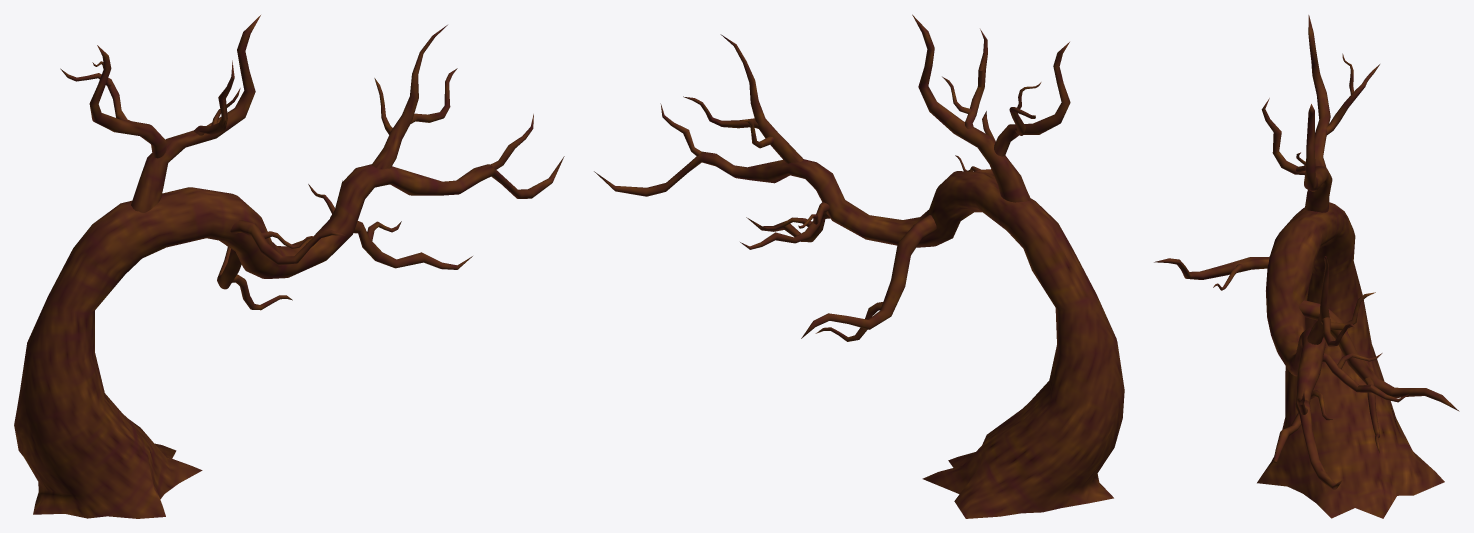
File: skeletal_tree_free.glb
The picture shows the model from 3 angles, left to right: view 1: azimuth 30°, elevation 25°; view 2: azimuth 150°, elevation 25°; view 3: azimuth 270°, elevation 25°; orthographic projection. The views are drawn at different scales.
Parts seen in each view (by area): view 1: Skeletal_Tree_FREE; view 2: Skeletal_Tree_FREE; view 3: Skeletal_Tree_FREE.
Part boxes in pixels (<box>): Skeletal_Tree_FREE: <box>14,15,564,518</box>; Skeletal_Tree_FREE: <box>594,14,1124,518</box>; Skeletal_Tree_FREE: <box>1154,15,1459,518</box>.
Size of the model in its own units: 0.2341 by 0.1894 by 0.1172.
1 material, 1 textured.
